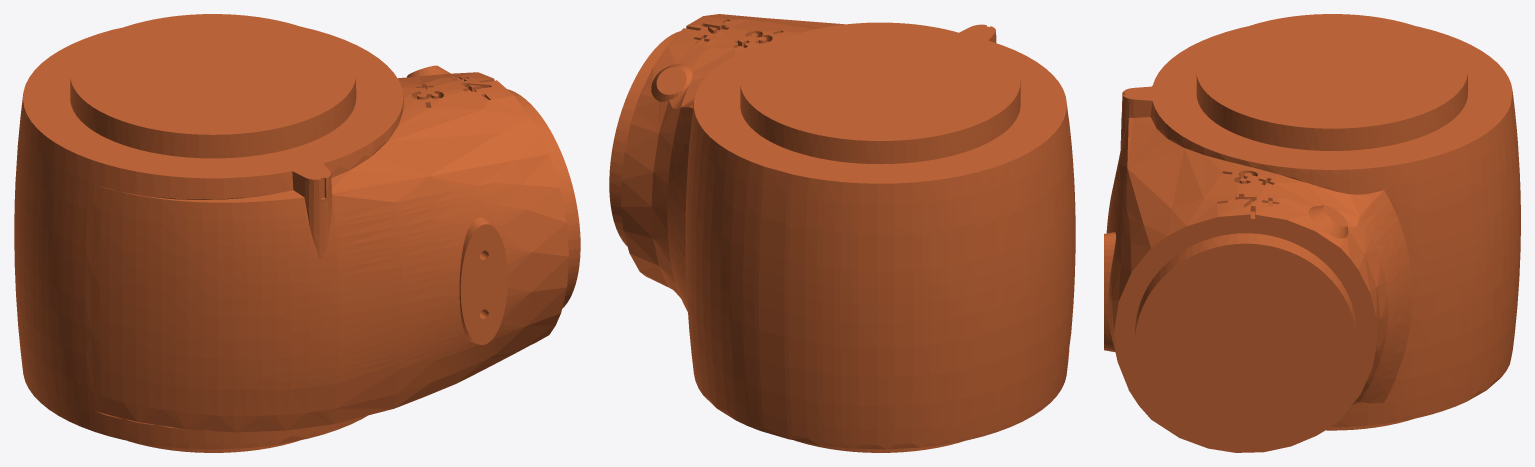
3 views of the same model, side by side, from view 1: azimuth 30°, elevation 25°; view 2: azimuth 150°, elevation 25°; view 3: azimuth 270°, elevation 25° (orthographic). The views are drawn at different scales.
Visible parts, largest first — view 1: link_3; view 2: link_3; view 3: link_3.
Part boxes in pixels (bbox=[...]): link_3: bbox=[14, 14, 580, 452]; link_3: bbox=[609, 14, 1075, 452]; link_3: bbox=[1104, 14, 1520, 452].
Bounding box in the file's own units: 0.1935 × 0.135 × 0.169.
